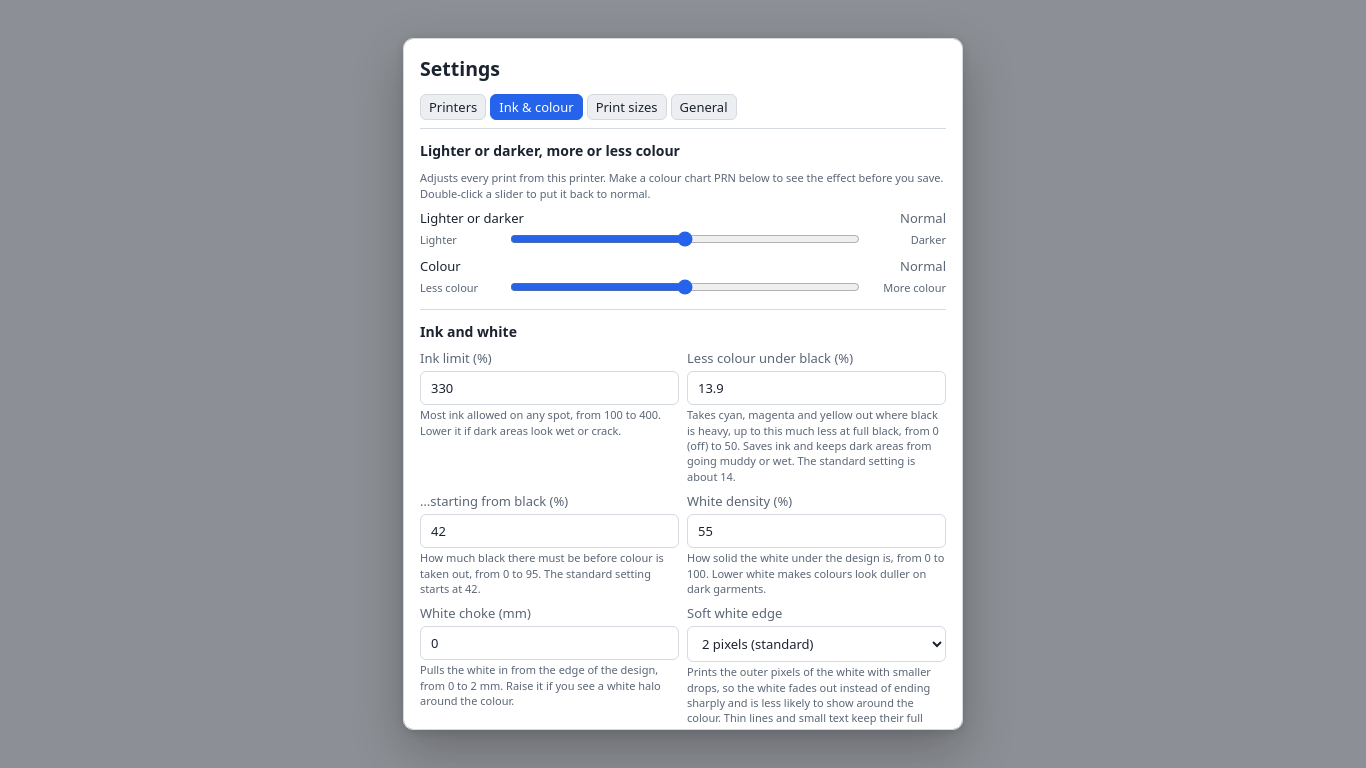
Scenario: Settings › Ink & colour › stays open and says why when a value cannot be saved
Replace the text in the number field labelled "Ink limit (%)" with "50": {"x": 550, "y": 388} [420,371,679,405]
(page scrolled)
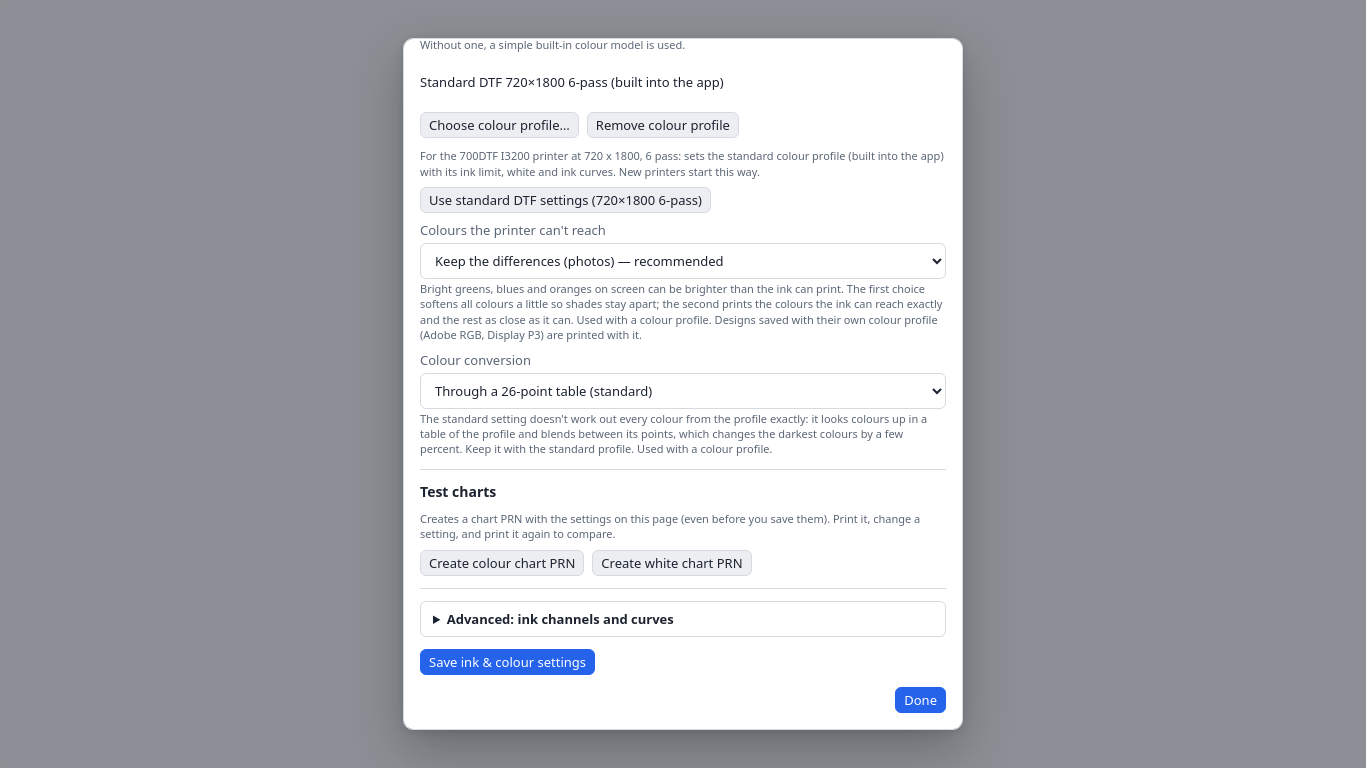
Click the button "Done": {"x": 921, "y": 700} [895,686,946,712]
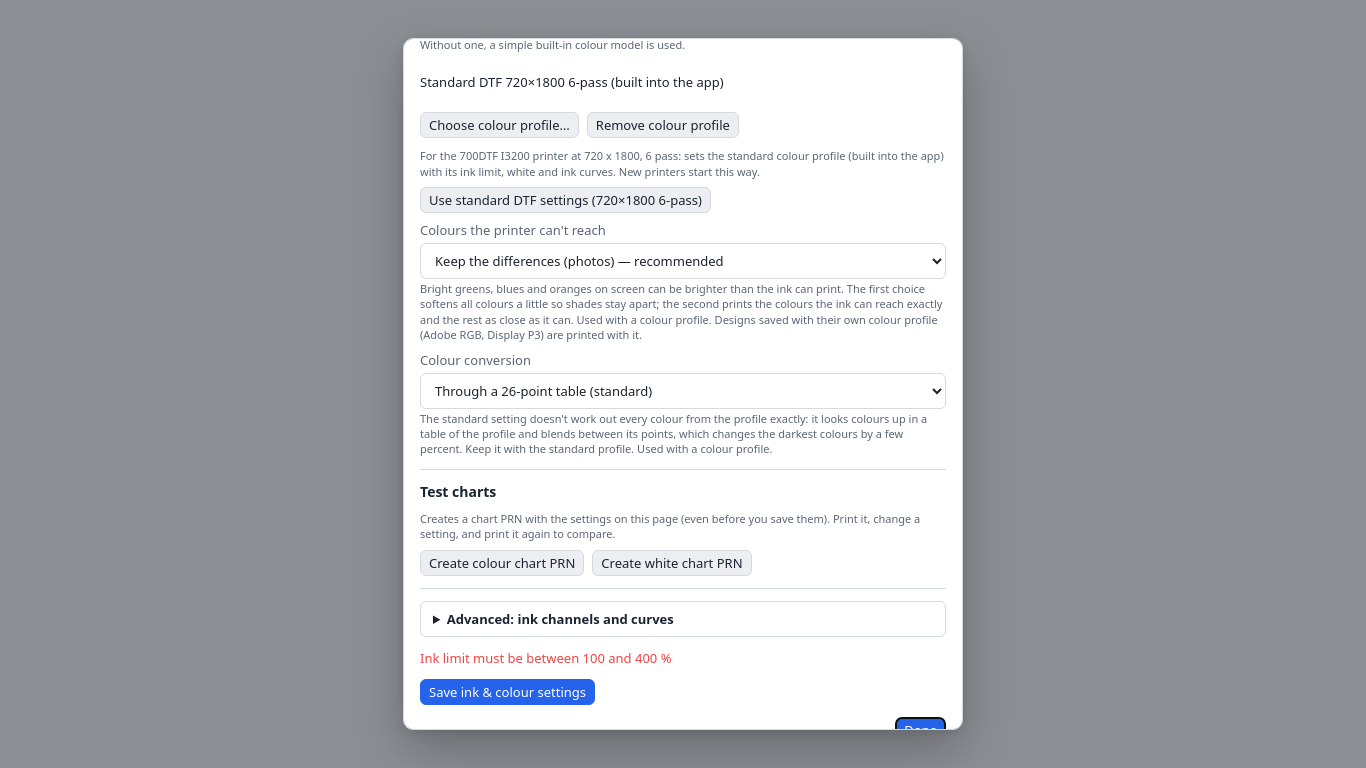
Check: the text "Ink limit must be between 100 and 400 %" is shown, box [420,648,672,666]
